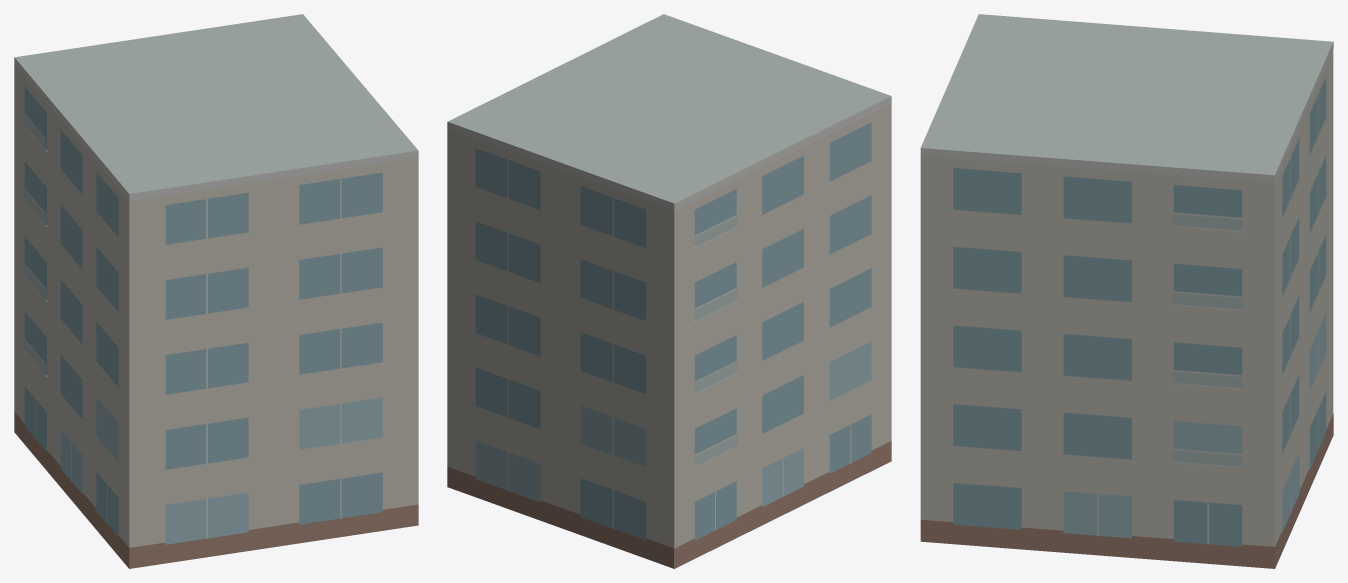
The model's file is survey-upis-32919770.glb.
3 views of the same model, side by side, from view 1: azimuth 30°, elevation 25°; view 2: azimuth 150°, elevation 25°; view 3: azimuth 270°, elevation 25° (orthographic). The views are drawn at different scales.
Visible parts, largest first — view 1: survey-upis-32919770.tmp; view 2: survey-upis-32919770.tmp; view 3: survey-upis-32919770.tmp.
Part boxes in pixels (<box>): survey-upis-32919770.tmp: <box>14,14,418,568</box>; survey-upis-32919770.tmp: <box>447,14,891,568</box>; survey-upis-32919770.tmp: <box>920,14,1333,568</box>.
Size of the model in its own units: 11.26 by 12.8 by 12.18.
